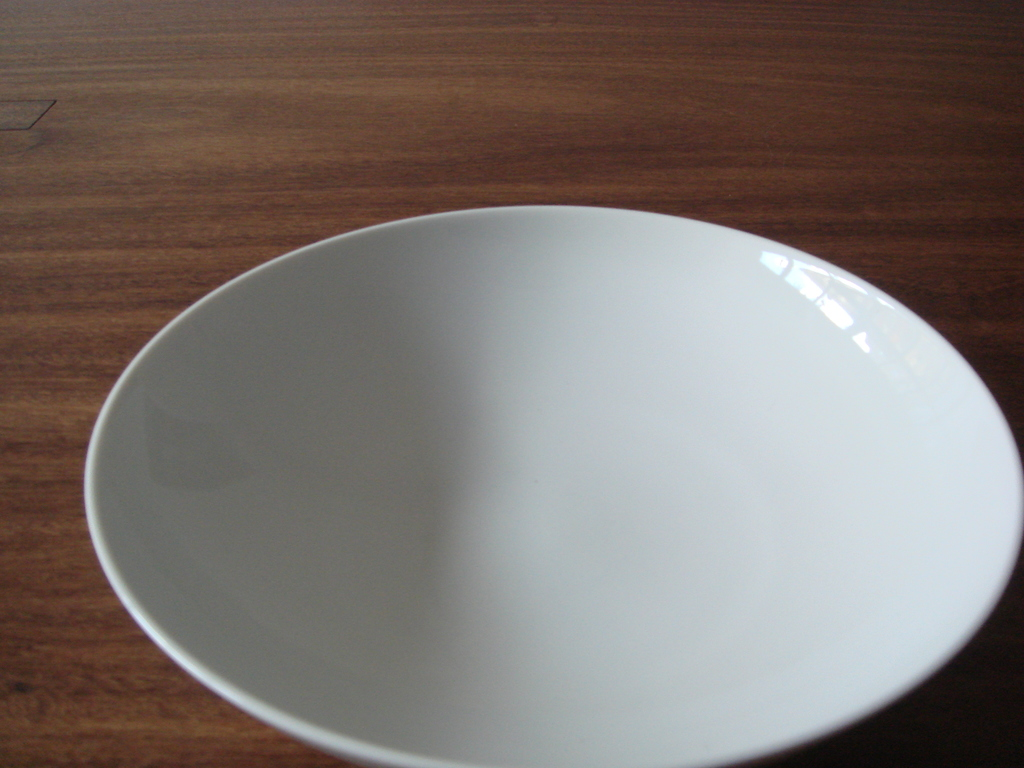plate: (84, 205, 1023, 767)
